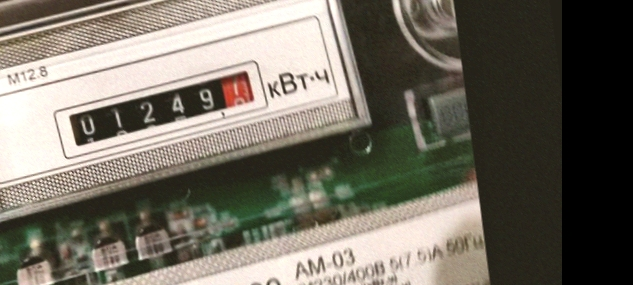0: (75, 108, 97, 136)
1: (106, 104, 124, 130)
2: (136, 97, 159, 126)
4: (167, 87, 188, 116)
7: (225, 72, 243, 98)
9: (196, 84, 217, 111)
screen: (44, 60, 284, 164)
